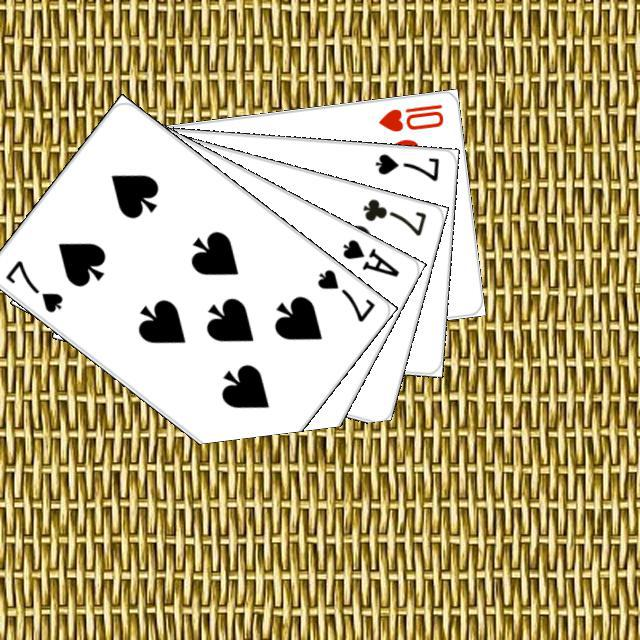10h: (373, 99, 446, 134)
7c: (357, 193, 428, 238)
7s: (312, 264, 377, 324), (0, 255, 65, 315), (370, 149, 441, 183)
As: (337, 234, 401, 279)
